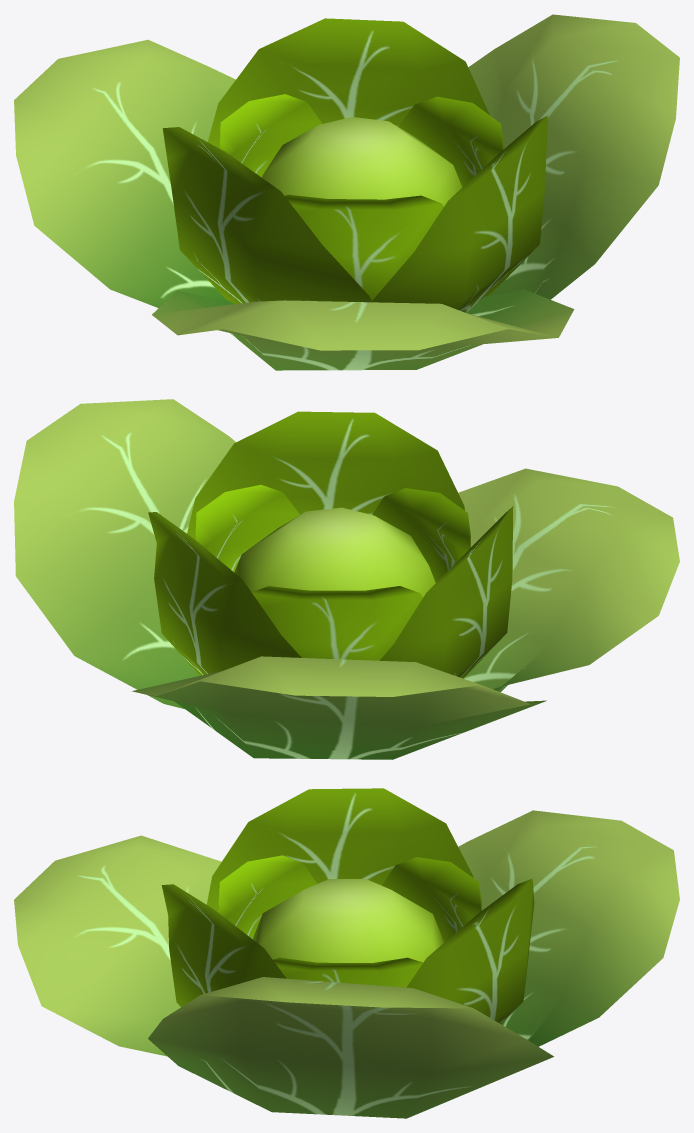
The model's file is SM_Cabbage.fbx.
The picture shows the model from 3 angles, top to bottom: view 1: azimuth 30°, elevation 25°; view 2: azimuth 150°, elevation 25°; view 3: azimuth 270°, elevation 25°; orthographic projection. The views are drawn at different scales.
Visible parts, largest first — view 1: la_to, la_vua, la_nho, nhan; view 2: la_to, la_vua, la_nho, nhan; view 3: la_to, la_vua, la_nho, nhan.
Boxes of the visible parts, x1,y1,x2,y2 form: la_to: (14, 14, 679, 370); la_vua: (162, 18, 547, 312); la_nho: (220, 94, 503, 300); nhan: (262, 117, 462, 206); la_to: (14, 399, 679, 759); la_vua: (148, 411, 513, 678); la_nho: (195, 484, 470, 660); nhan: (234, 507, 435, 597); la_to: (14, 810, 679, 1118); la_vua: (161, 788, 534, 1023); la_nho: (218, 855, 481, 987); nhan: (252, 879, 444, 962).
Size of the model in its own units: 10.35 by 4.3 by 11.18.
Materials: 1 (1 with a texture image).
